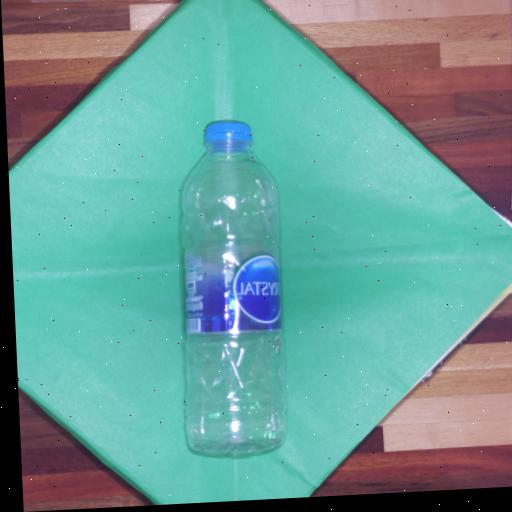bottle: (181, 121, 285, 452)
